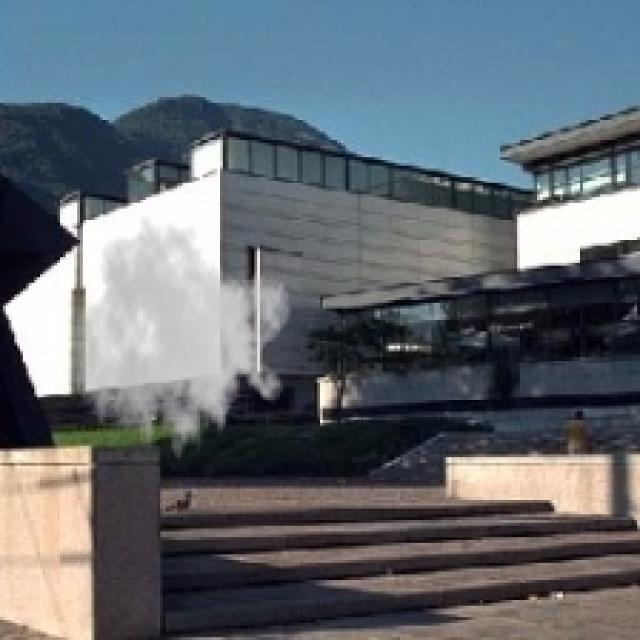smoke: (68, 215, 292, 474)
